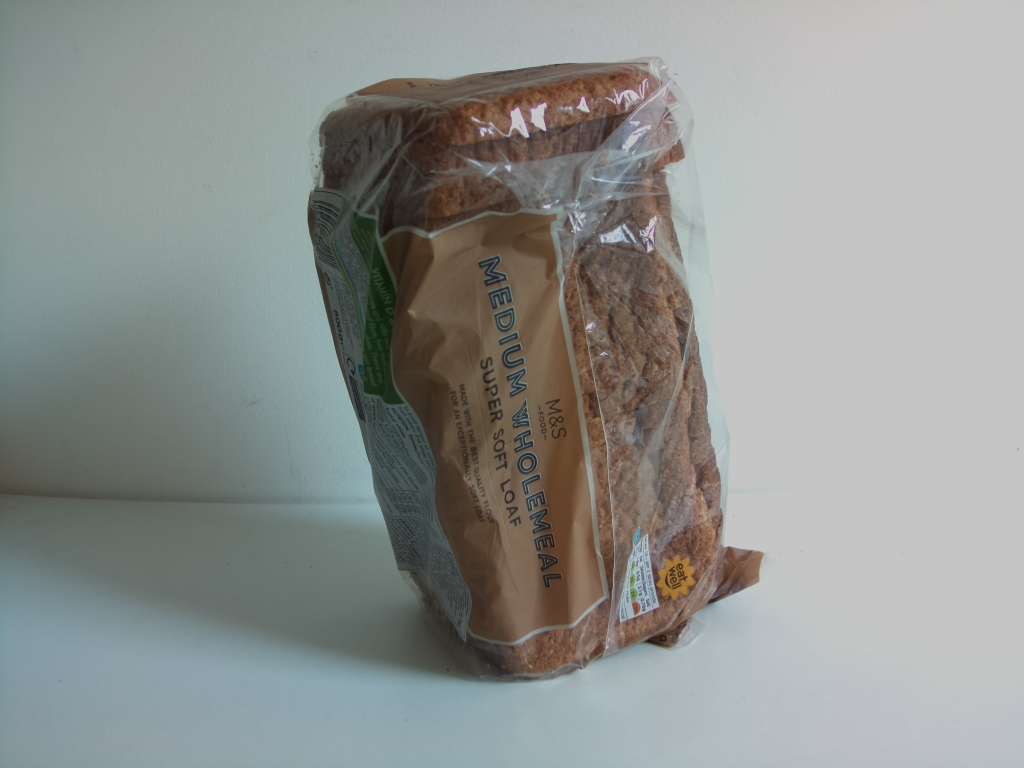bread: (303, 52, 768, 687)
